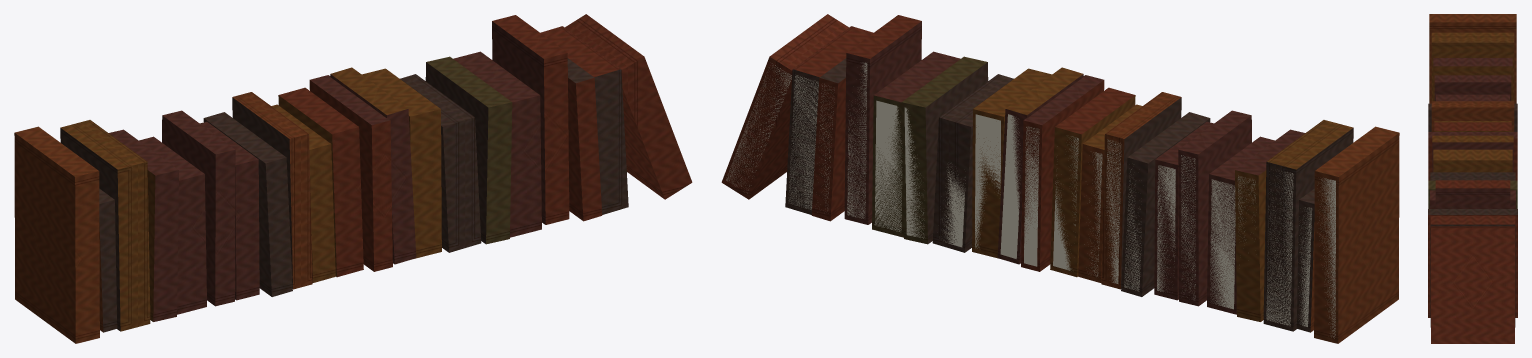
The model's file is row.glb.
The picture shows the model from 3 angles, left to right: view 1: azimuth 30°, elevation 25°; view 2: azimuth 150°, elevation 25°; view 3: azimuth 270°, elevation 25°; orthographic projection. The views are drawn at different scales.
Visible parts, largest first — view 1: row; view 2: row; view 3: row.
Boxes of the visible parts, x1,y1,x2,y2 form: row: (14,14,692,343); row: (721,14,1399,343); row: (1428,14,1517,343).
Bounding box in the file's own units: 1.14 × 0.295 × 0.1991.
Materials: 2 (1 with a texture image).
